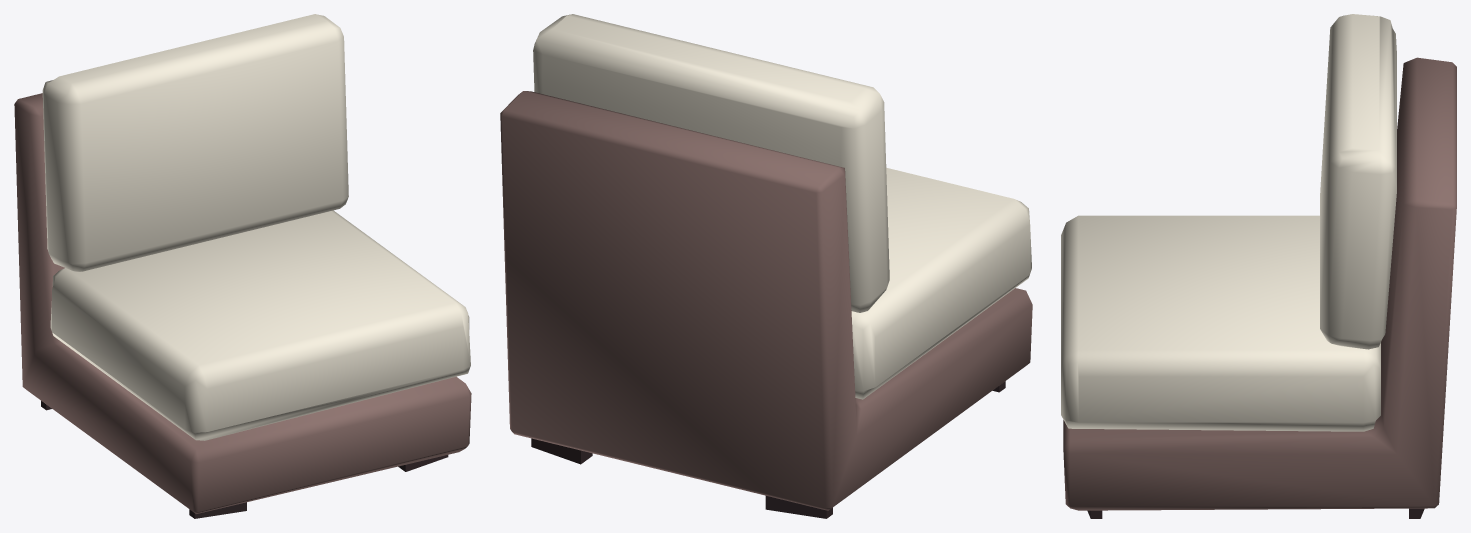
File: Prop_Sofa_03_A.fbx
The picture shows the model from 3 angles, left to right: view 1: azimuth 30°, elevation 25°; view 2: azimuth 150°, elevation 25°; view 3: azimuth 270°, elevation 25°; orthographic projection. The views are drawn at different scales.
Parts seen in each view (by area): view 1: Prop_Sofa_03_A; view 2: Prop_Sofa_03_A; view 3: Prop_Sofa_03_A.
Boxes of the visible parts, x1,y1,x2,y2 form: Prop_Sofa_03_A: (14, 14, 471, 518); Prop_Sofa_03_A: (500, 14, 1032, 518); Prop_Sofa_03_A: (1061, 14, 1456, 518).
Size of the model in its own units: 86.02 by 100 by 96.7.
